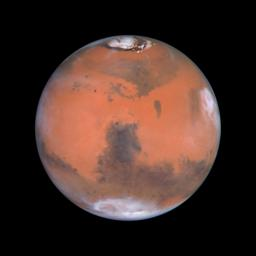planet: (34, 34, 222, 222)
